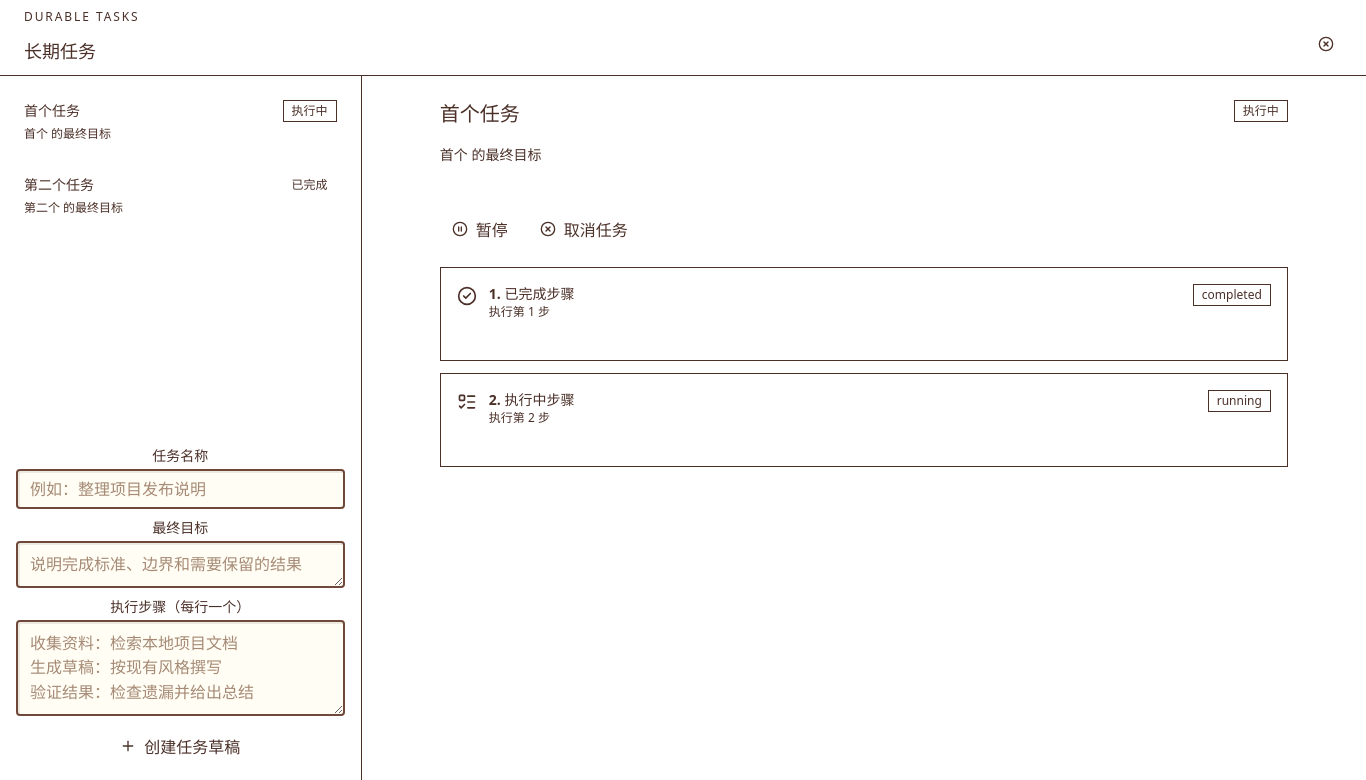
LongTaskPanel › selects tasks and renders completed-step progress
The image size is (1366, 780).
Expected: the heading "首个任务" is shown, [440,100,520,127]
Expected: the text "1. 已完成步骤" is shown, [489,284,574,303]
Click the button "第二个任务 已完成 第二个 的最终目标": click(59, 184) [12,162,349,228]
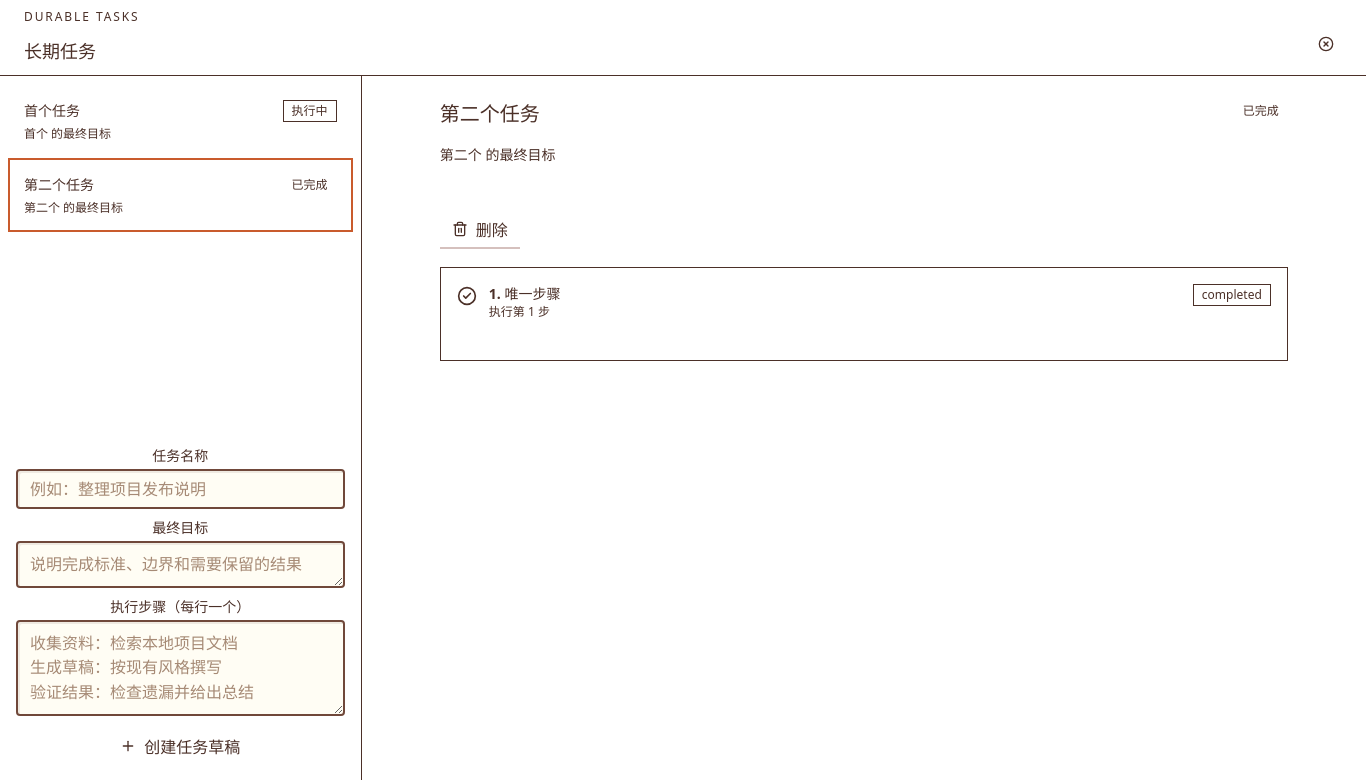
Expected: the heading "第二个任务" is shown, [440,100,555,128]
